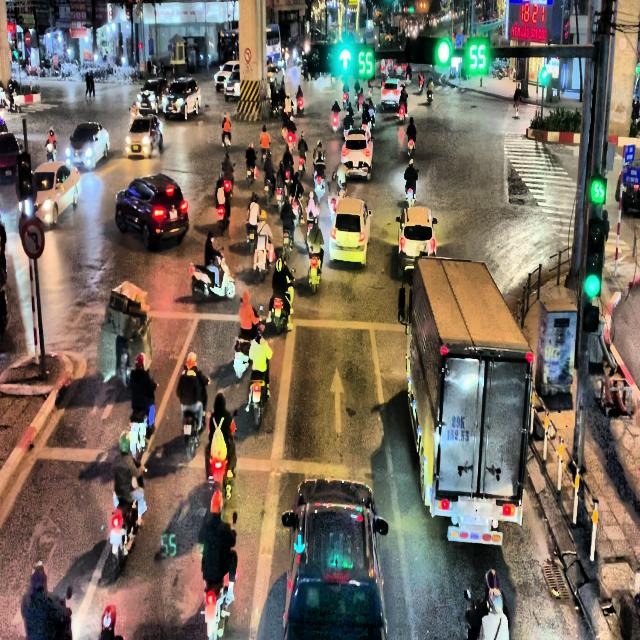lisence_plate: (448, 489, 504, 512), (445, 415, 474, 443), (344, 237, 352, 247), (169, 211, 177, 220), (353, 162, 359, 168)
